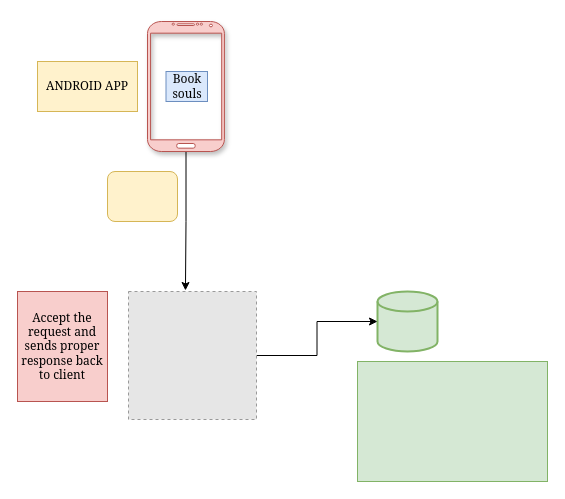
The diagram is 565 pixels wide and 499 high, and some of its shapes have lost their labels. Grey dashed boxes stand in for pictures. The centre of each missing label's shape, as x and y in pixels:
"ALL Request" belongs at (x=142, y=196).
"Database Note: The database can be any postgresql or Mongodb for the Use case." belongs at (x=452, y=421).
